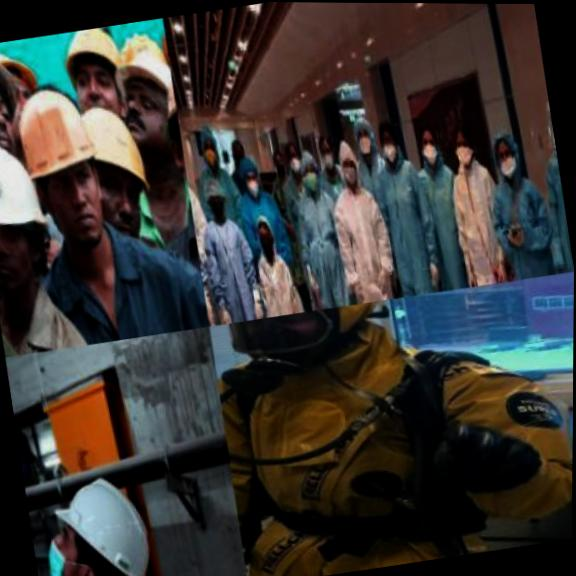safety_vest: (211, 297, 574, 576), (42, 224, 208, 348), (367, 147, 443, 298), (442, 148, 519, 287), (323, 173, 399, 305), (485, 161, 562, 281), (410, 152, 475, 291), (285, 179, 353, 311), (196, 210, 265, 324), (249, 246, 302, 317), (234, 191, 287, 253), (186, 175, 210, 261)
